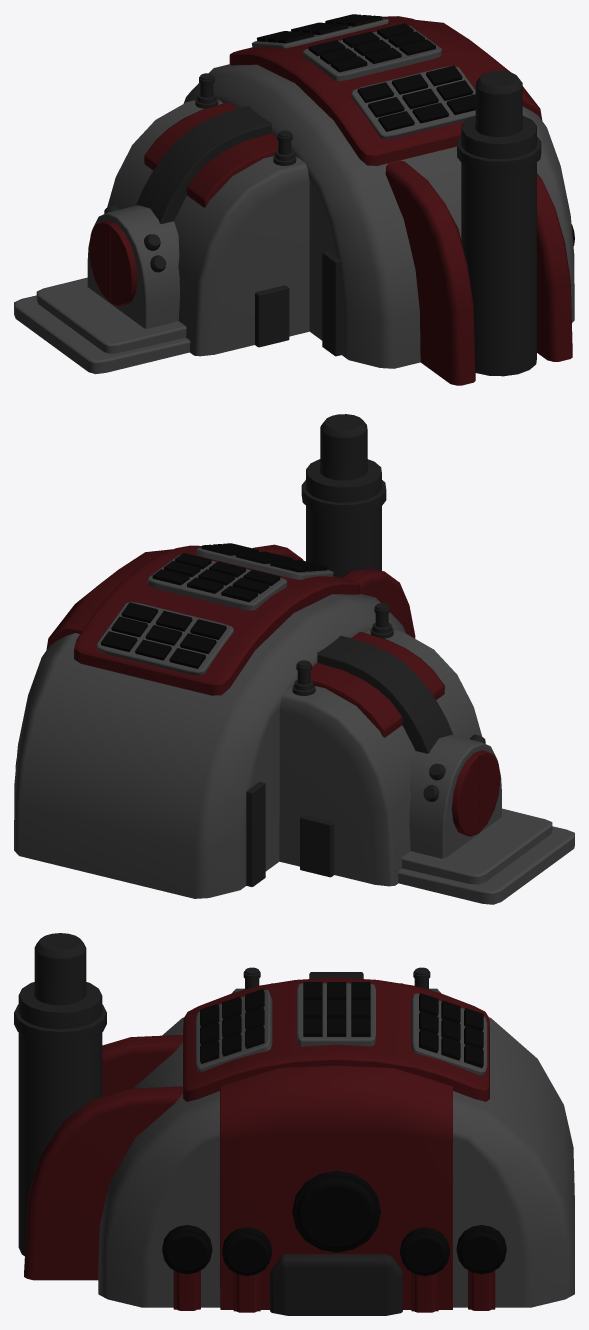
File: colony_Home_colonists_é.glb
3 views of the same model, one above another, from view 1: azimuth 30°, elevation 25°; view 2: azimuth 150°, elevation 25°; view 3: azimuth 270°, elevation 25° (orthographic). The views are drawn at different scales.
Visible parts, largest first — view 1: Home_colonists_В; view 2: Home_colonists_В; view 3: Home_colonists_В.
Boxes of the visible parts, box(x1,y1,x2,y2) form: Home_colonists_В: box(14, 14, 574, 385); Home_colonists_В: box(14, 414, 574, 904); Home_colonists_В: box(14, 933, 574, 1315).
Bounding box in the file's own units: 1353 × 811 × 1346.
1 material, 1 textured.
